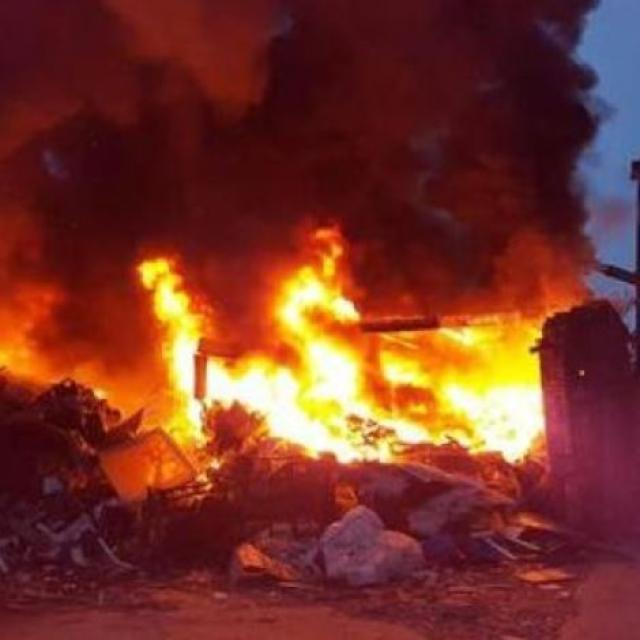Fire: (152, 272, 572, 464)
Smoke: (8, 0, 611, 298)
